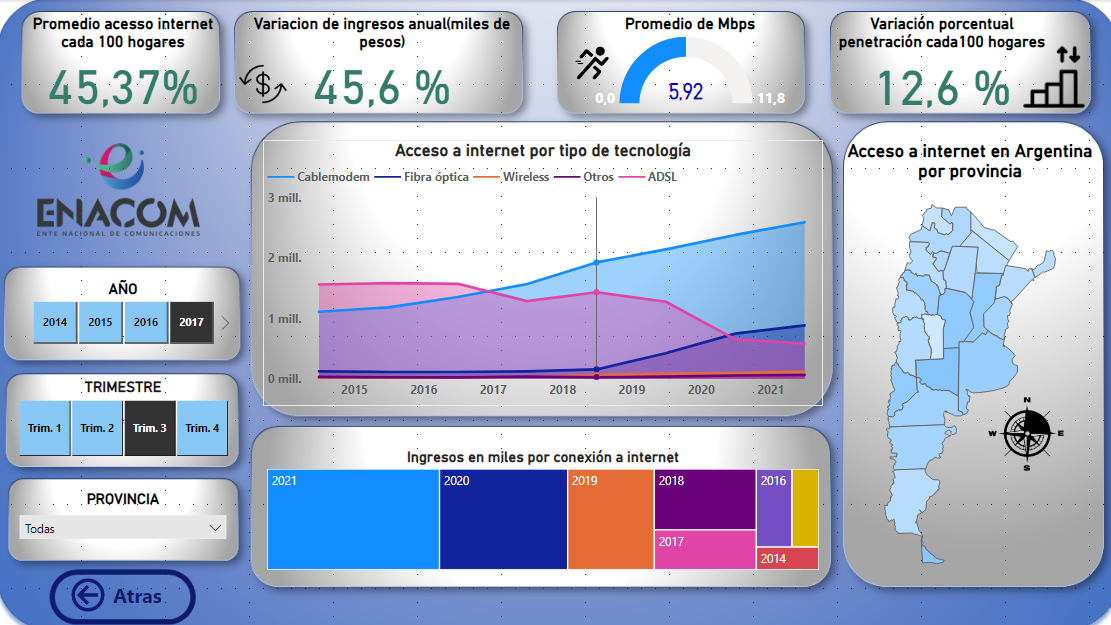

The page's visual inventory and layout, read from the dashboard file:
{"tool":"powerbi","page":{"name":"Dashboard","canvas":[1280,720],"ordinal":3},"visuals":[{"type":"gauge","title":"Promedio de Mbps","fields":{"Y":["Avg(Velocidad_media_provincia.Mbps (Media de bajada))"]},"box":[672,16,240,112],"z":0},{"type":"areaChart","title":"Acceso a internet por tipo de tecnología","fields":{"Category":["Calendar.Date.Variación.Jerarquía de fechas.Año","Calendar.Date.Variación.Jerarquía de fechas.Trimestre"],"Y":["Max(Acceso_internet_tecnologia_provincia.Cablemodem)","Max(Acceso_internet_tecnologia_provincia.Fibra óptica)","Max(Acceso_internet_tecnologia_provincia.Wireless)","Max(Acceso_internet_tecnologia_provincia.Otros)","Max(Acceso_internet_tecnologia_provincia.ADSL)"]},"box":[304,160,640,304],"z":1000},{"type":"shapeMap","title":"Acceso a internet en Argentina por provincia","fields":{"Category":["Ubicacion.Provincia"],"Value":["Max(Ubicacion.Accesos por cada 100 hogares)"]},"box":[960,160,304,512],"z":2000},{"type":"slicer","title":"AÑO","fields":{"Values":["Calendar.Date.Variación.Jerarquía de fechas.Año"]},"box":[16,320,256,80],"z":3000},{"type":"card","title":"Variación porcentual penetración cada100 hogares","fields":{"Values":["Medidas.Variacion_porcentual_trimestre"]},"box":[944,16,272,112],"z":4000},{"type":"slicer","title":"TRIMESTRE","fields":{"Values":["Calendar.Date.Variación.Jerarquía de fechas.Trimestre"]},"box":[0,432,288,96],"z":5000},{"type":"slicer","title":"PROVINCIA","fields":{"Values":["Penetracion_acceso_100_hogares.Provincia"]},"box":[16,560,256,64],"z":6000},{"type":"treemap","title":"Ingresos en miles por conexión a internet","fields":{"Group":["Calendar.Date.Variación.Jerarquía de fechas.Trimestre","Calendar.Date.Variación.Jerarquía de fechas.Año"],"Values":["Sum(Ingreso_trimestre_miles.Ingresos (miles de pesos))"]},"box":[304,512,640,144],"z":7000},{"type":"actionButton","box":[80,656,112,48],"z":8000},{"type":"image","box":[640,48,80,48],"z":9000},{"type":"image","box":[1152,48,112,80],"z":10000},{"type":"image","box":[1120,448,112,96],"z":11000},{"type":"card","title":"Variacion de ingresos anual(miles de pesos)","fields":{"Values":["Acceso_banda_provincia.Variacion de ingresos anual(miles de pesos)"]},"box":[288,16,304,112],"z":12000},{"type":"image","box":[240,64,128,64],"z":13000},{"type":"card","title":"Promedio acesso internet cada 100 hogares","fields":{"Values":["Acceso_banda_provincia.mMedida"]},"box":[32,16,224,112],"z":14000}]}

Visuals, with their boxes in screenshot pixels (x1, y1, x2, y2), scaled from the page's 1280x720 canvas onto the 1111x625 screenshot:
"Promedio de Mbps" gauge: select_region(583, 14, 792, 111)
"Acceso a internet por tipo de tecnología" areaChart: select_region(264, 139, 819, 403)
"Acceso a internet en Argentina por provincia" shapeMap: select_region(833, 139, 1097, 583)
"AÑO" slicer: select_region(14, 278, 236, 347)
"Variación porcentual penetración cada100 hogares" card: select_region(819, 14, 1055, 111)
"TRIMESTRE" slicer: select_region(0, 375, 250, 458)
"PROVINCIA" slicer: select_region(14, 486, 236, 542)
"Ingresos en miles por conexión a internet" treemap: select_region(264, 444, 819, 569)
actionButton: select_region(69, 569, 167, 611)
image: select_region(556, 42, 625, 83)
image: select_region(1000, 42, 1097, 111)
image: select_region(972, 389, 1069, 472)
"Variacion de ingresos anual(miles de pesos)" card: select_region(250, 14, 514, 111)
image: select_region(208, 56, 319, 111)
"Promedio acesso internet cada 100 hogares" card: select_region(28, 14, 222, 111)
